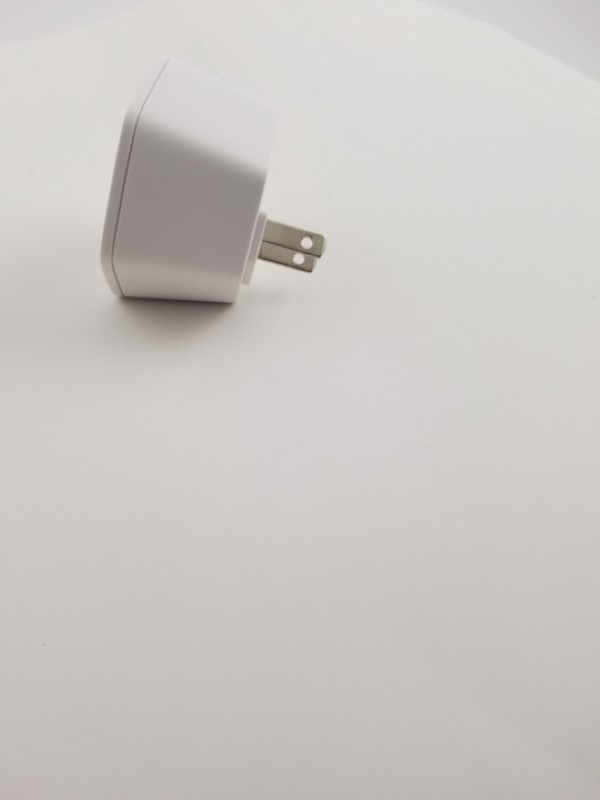pod: (99, 51, 332, 319)
